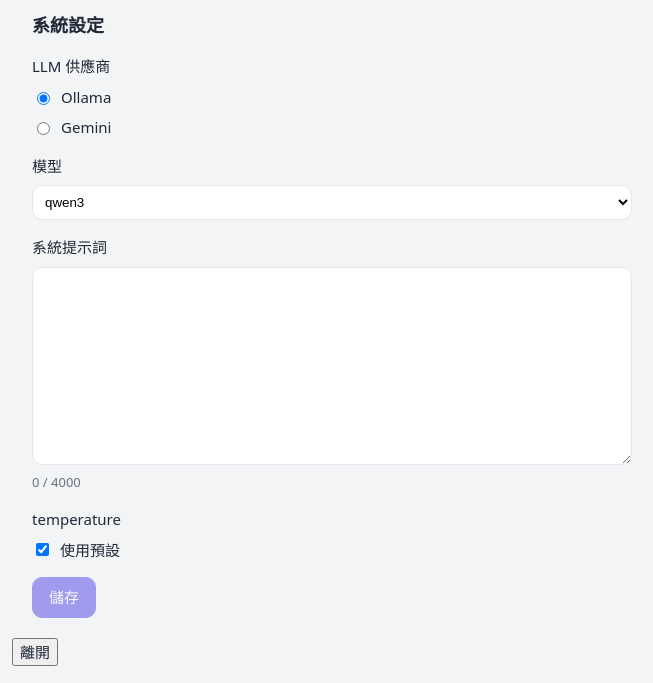
Test: SettingsPage › saves only changed fields and shows 已儲存
Type "hello" into the text box labelled "系統提示詞".
click(332, 366); type("hello")  # box top-left (32, 266), bottom-right (632, 464)
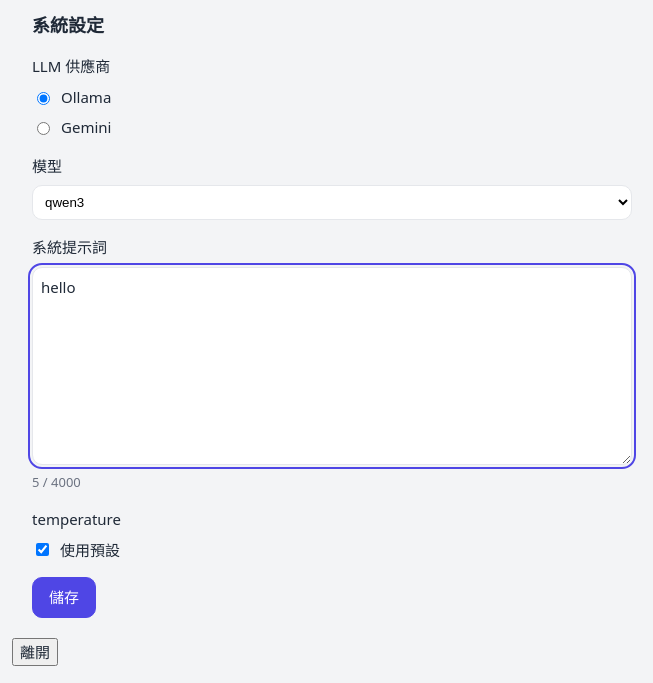
Check: the text "5 / 4000" is shown, box top-left (32, 472), bottom-right (81, 490)
Click the button "儲存".
click(64, 597)  # box top-left (32, 577), bottom-right (96, 618)
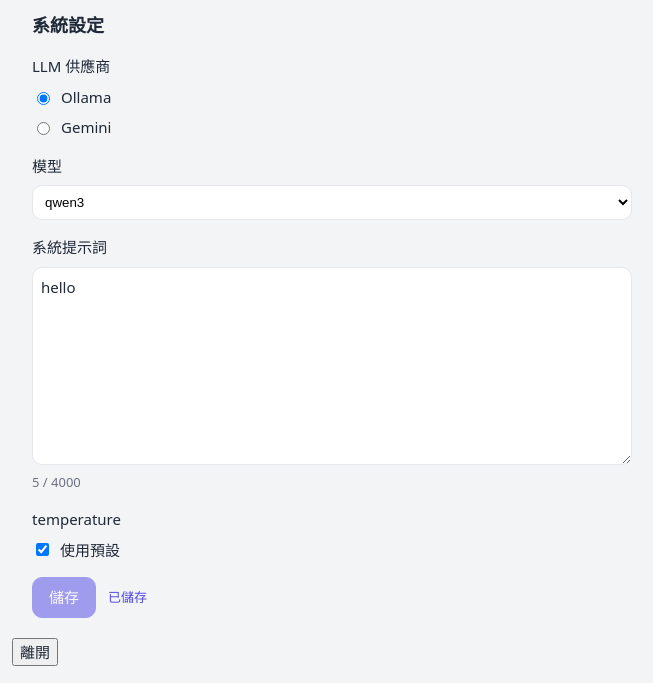
Check: the text "已儲存" is shown, box top-left (108, 588), bottom-right (147, 607)
Check: the button "儲存" is disabled, box top-left (32, 577), bottom-right (96, 618)
